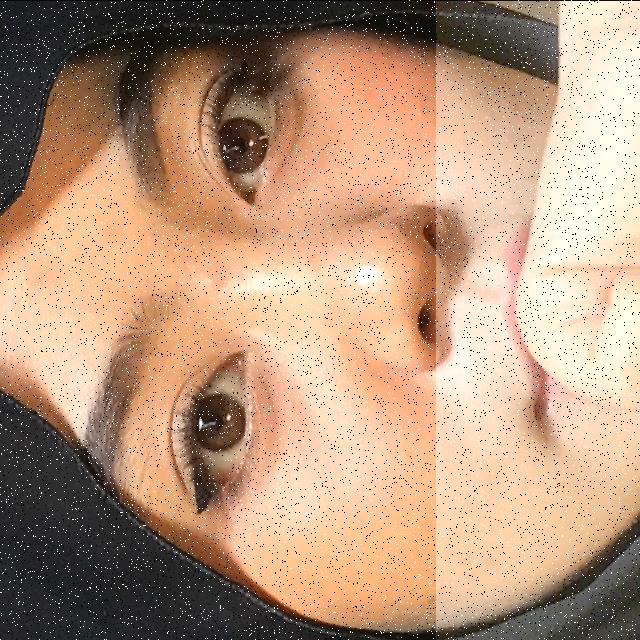sedih: (436, 0, 640, 640)
